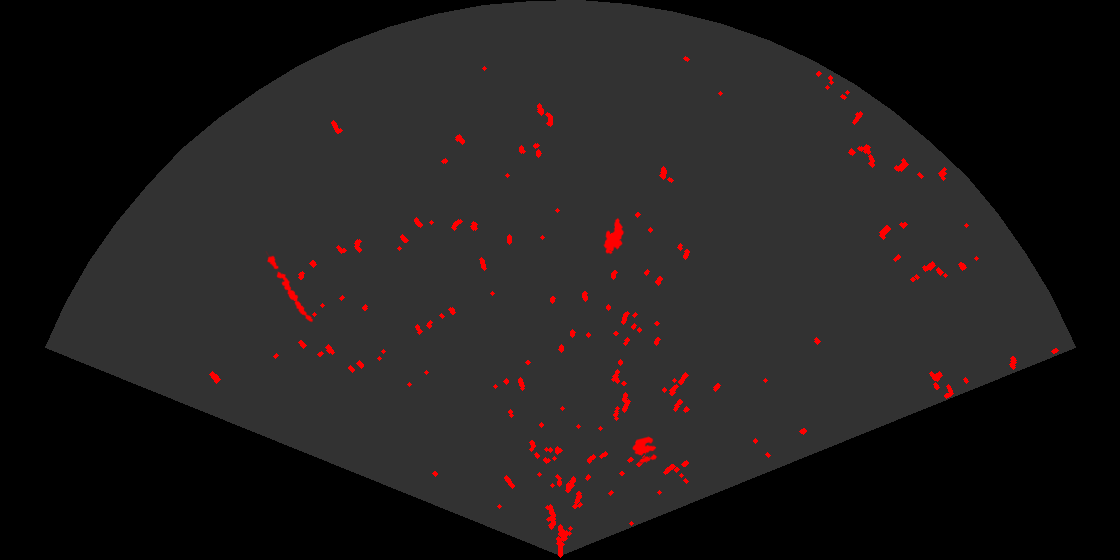AUV: (602, 216, 626, 256)
ball: (631, 435, 659, 464)
chain: (264, 251, 315, 324)
